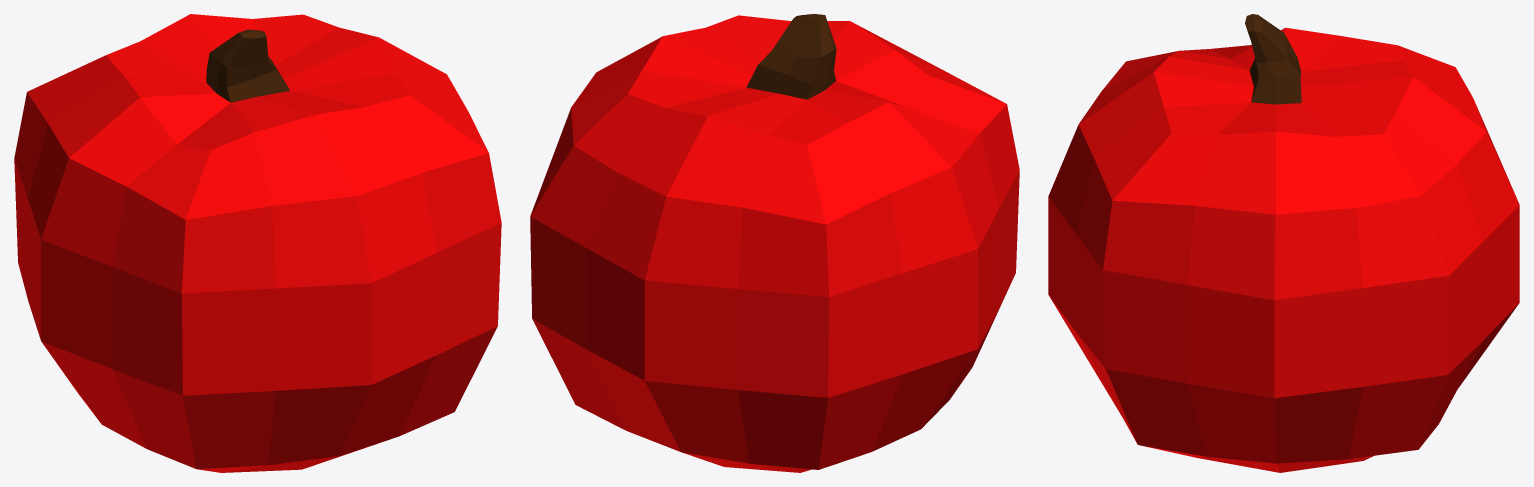
The model's file is pomme6.fbx.
3 views of the same model, side by side, from view 1: azimuth 30°, elevation 25°; view 2: azimuth 150°, elevation 25°; view 3: azimuth 270°, elevation 25° (orthographic). The views are drawn at different scales.
Visible parts, largest first — view 1: Cube; view 2: Cube; view 3: Cube.
Part boxes in pixels (left/top/right/bottom): Cube: left=14, top=14, right=501, bottom=472; Cube: left=530, top=14, right=1019, bottom=472; Cube: left=1048, top=14, right=1519, bottom=472.
Size of the model in its own units: 154 by 149 by 154.
1 material, 1 textured.
